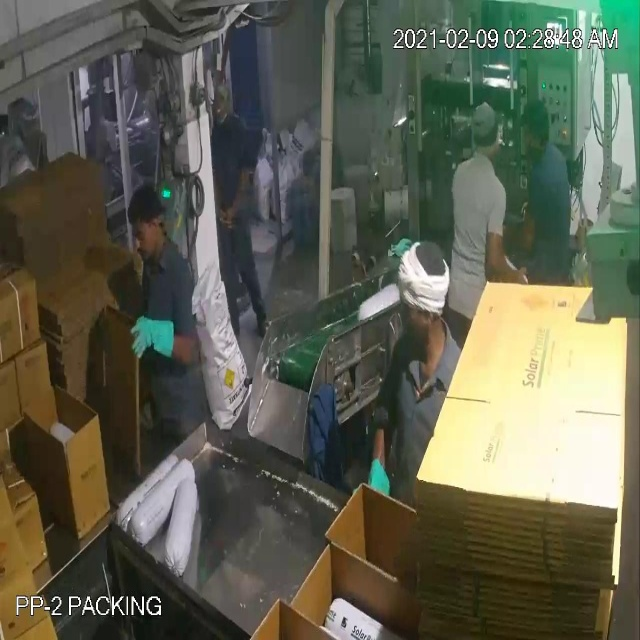Guantes: (124, 308, 194, 371)
Sin_guantes: (485, 228, 530, 291), (224, 172, 257, 237)
